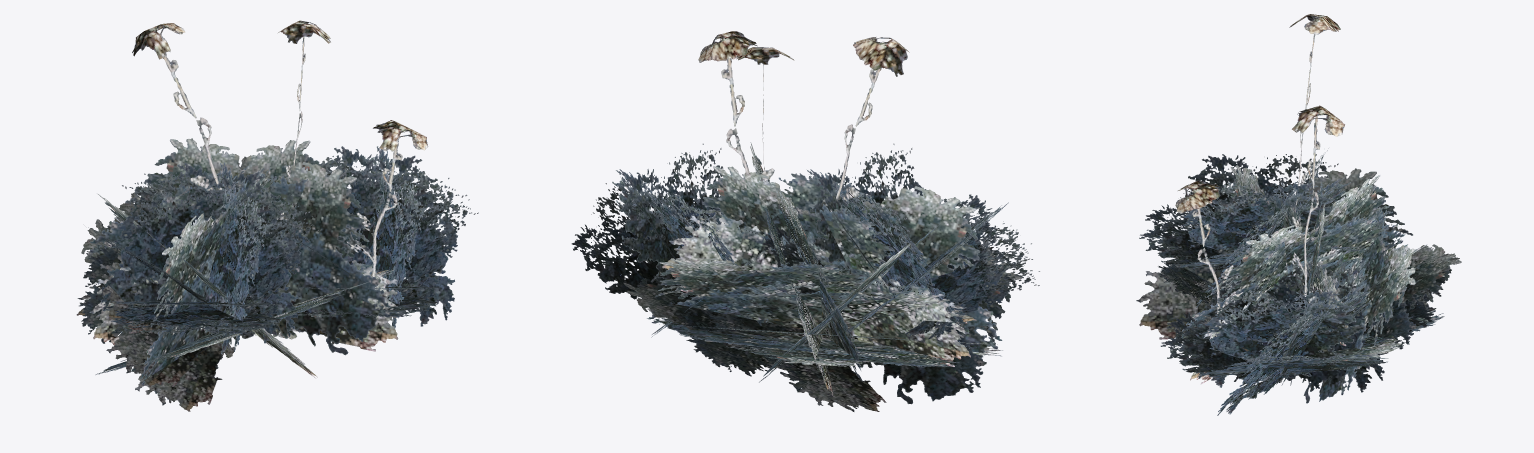
Rendered from shrb_dustymillerbush_l1.fbx.
3 views of the same model, side by side, from view 1: azimuth 30°, elevation 25°; view 2: azimuth 150°, elevation 25°; view 3: azimuth 270°, elevation 25° (orthographic). The views are drawn at different scales.
Parts seen in each view (by area): view 1: mesh_node; view 2: mesh_node; view 3: mesh_node.
Boxes of the visible parts, bbox=[...] form: mesh_node: bbox=[76, 20, 478, 411]; mesh_node: bbox=[571, 31, 1039, 411]; mesh_node: bbox=[1136, 14, 1461, 415].
Bounding box in the file's own units: 1.39 × 1.12 × 1.17.
